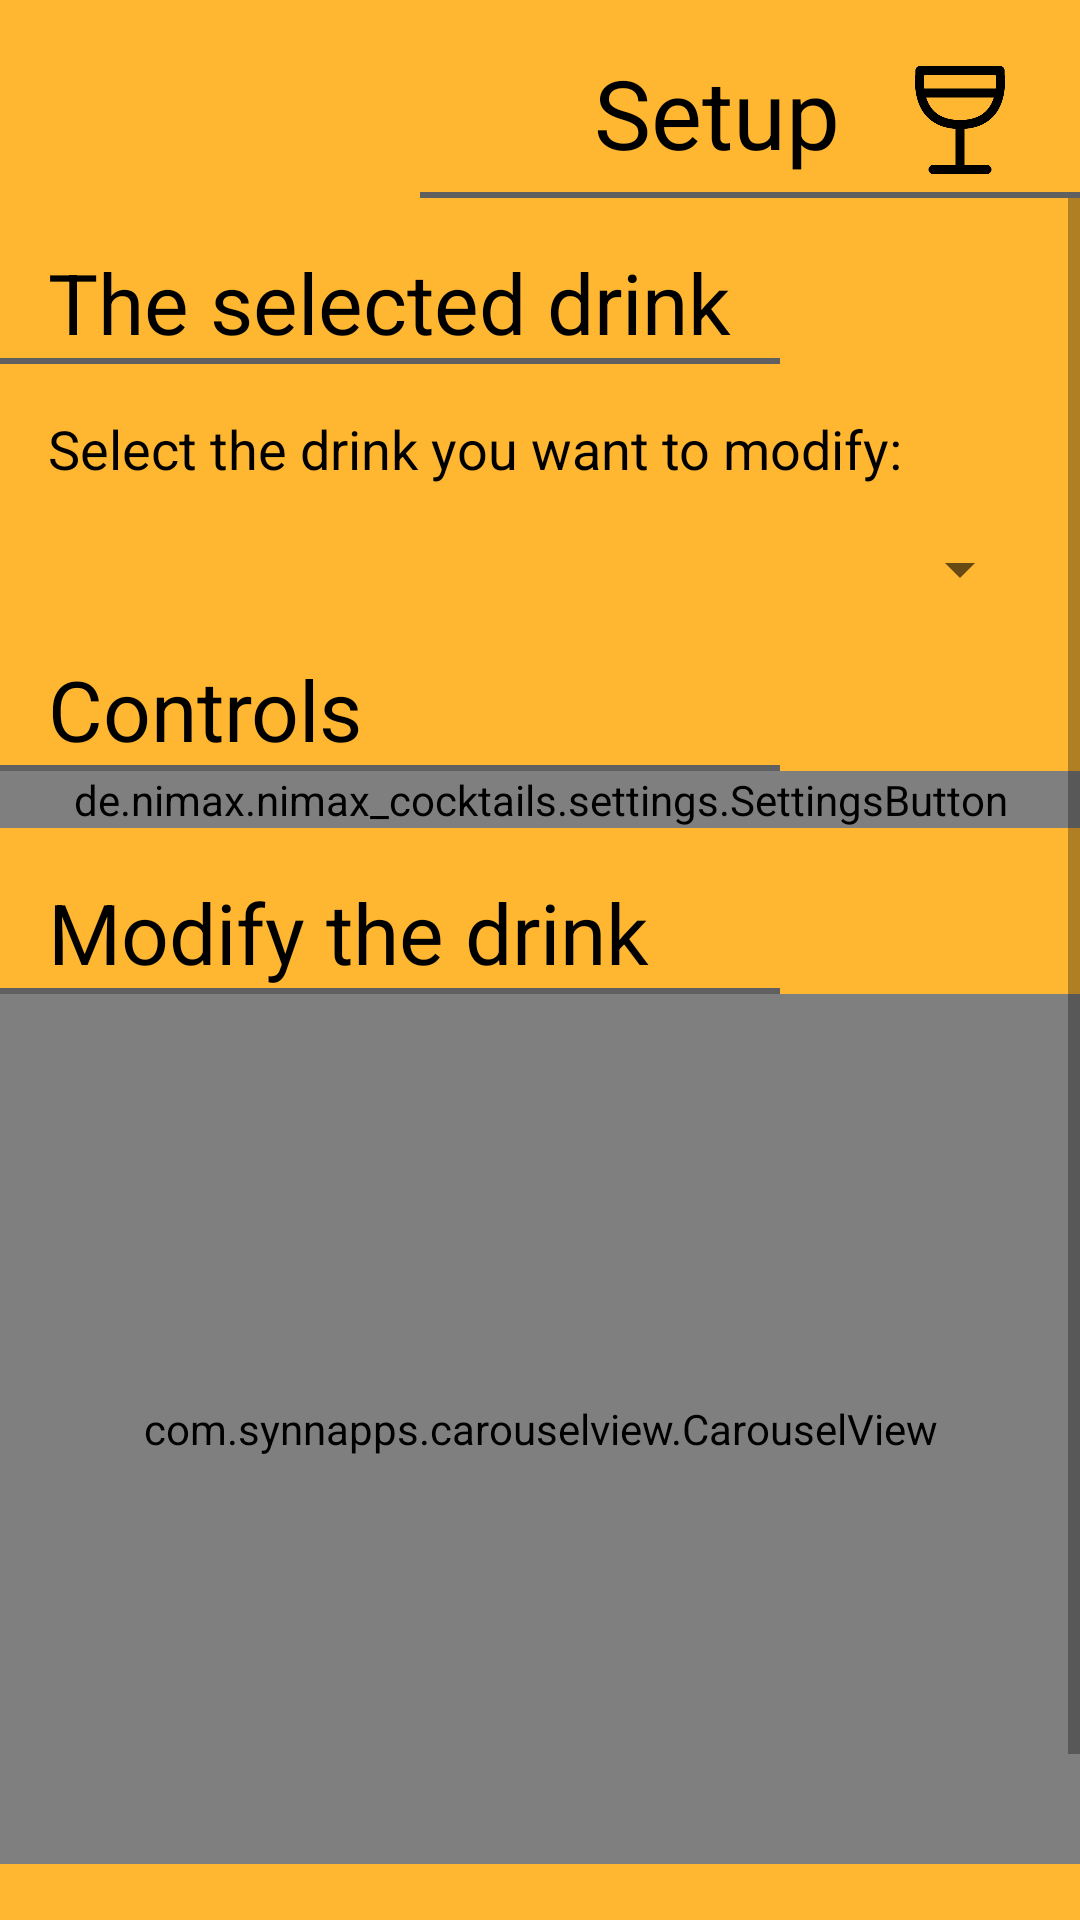

Named icons in this screenshot (1080x1920) and their centers, (x,y):
Drink: (960,120)
